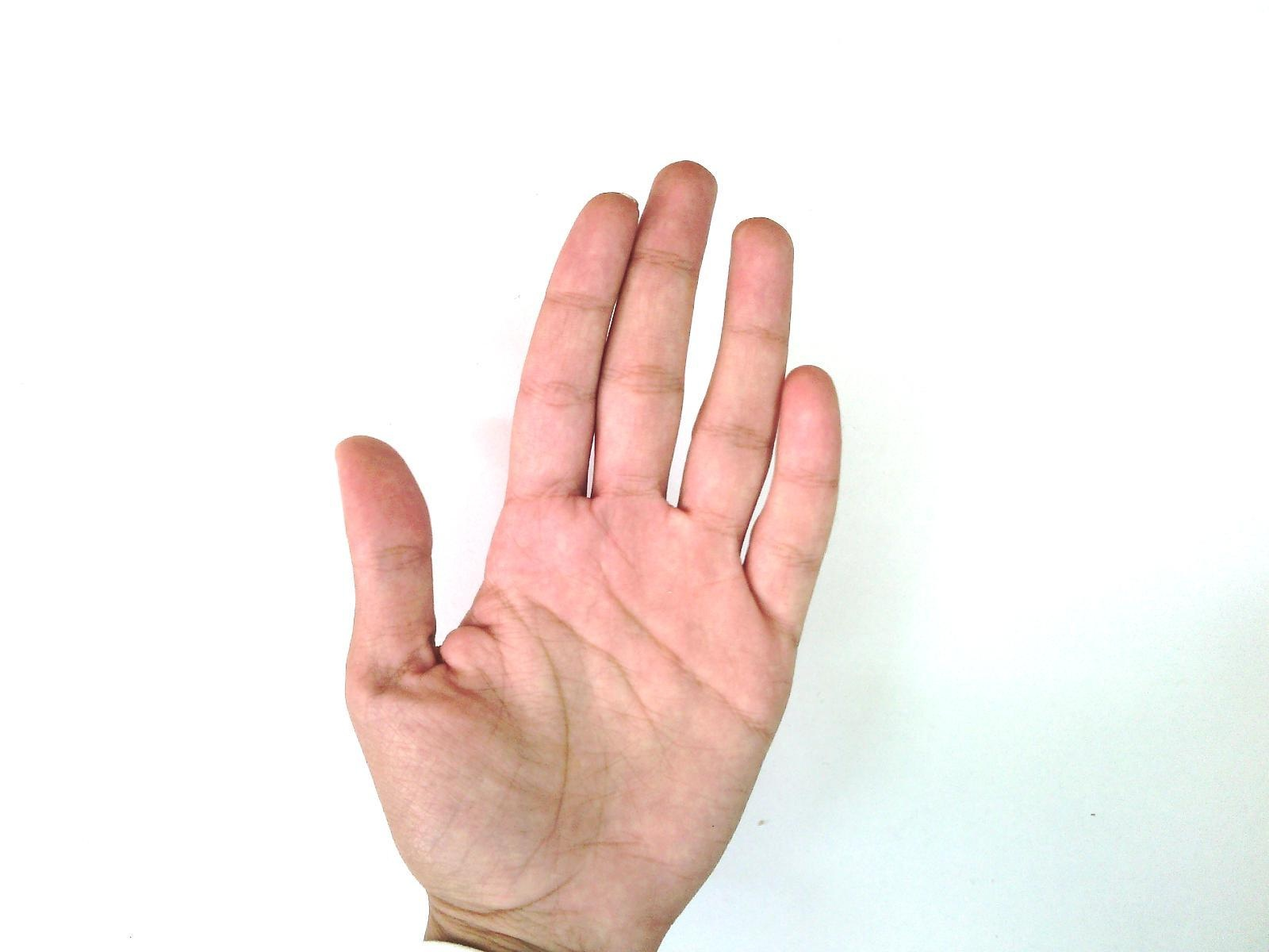open_palm: (332, 159, 846, 950)
